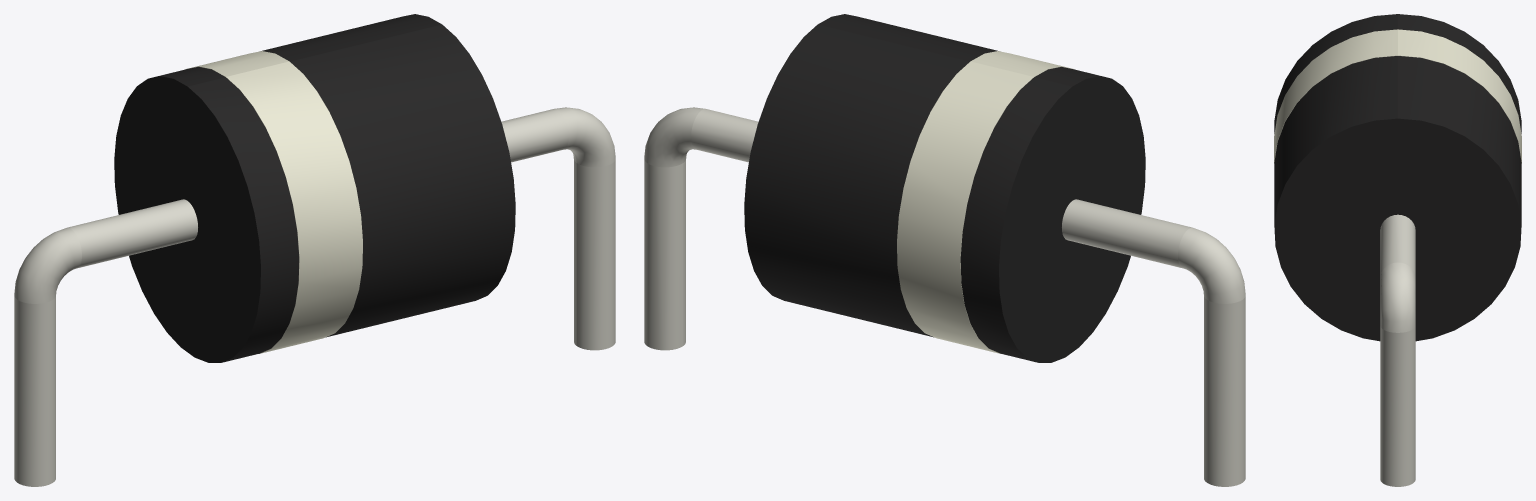
The model's file is kc-d_p600_r-6_p20.00mm_horizontal.glb.
The picture shows the model from 3 angles, left to right: view 1: azimuth 30°, elevation 25°; view 2: azimuth 150°, elevation 25°; view 3: azimuth 270°, elevation 25°; orthographic projection. The views are drawn at different scales.
Parts seen in each view (by area): view 1: 0_0_0_0, 0.6666666666666666_0.6666666666666666_0.5833333333333334_0.8, 0.75_0.75_0.6666666666666666_0; view 2: 0_0_0_0, 0.6666666666666666_0.6666666666666666_0.5833333333333334_0.8, 0.75_0.75_0.6666666666666666_0; view 3: 0_0_0_0, 0.6666666666666666_0.6666666666666666_0.5833333333333334_0.8, 0.75_0.75_0.6666666666666666_0.
Part boxes in pixels (x1,y1,x2,y2): 0_0_0_0: (114,14,515,362); 0.6666666666666666_0.6666666666666666_0.5833333333333334_0.8: (14,107,615,486); 0.75_0.75_0.6666666666666666_0: (186,51,362,353); 0_0_0_0: (744,14,1145,362); 0.6666666666666666_0.6666666666666666_0.5833333333333334_0.8: (644,107,1245,486); 0.75_0.75_0.6666666666666666_0: (897,51,1073,353); 0_0_0_0: (1274,14,1521,341); 0.6666666666666666_0.6666666666666666_0.5833333333333334_0.8: (1380,214,1415,486); 0.75_0.75_0.6666666666666666_0: (1274,29,1521,163).
Size of the model in its own units: 2.13 by 1.21 by 0.911.
